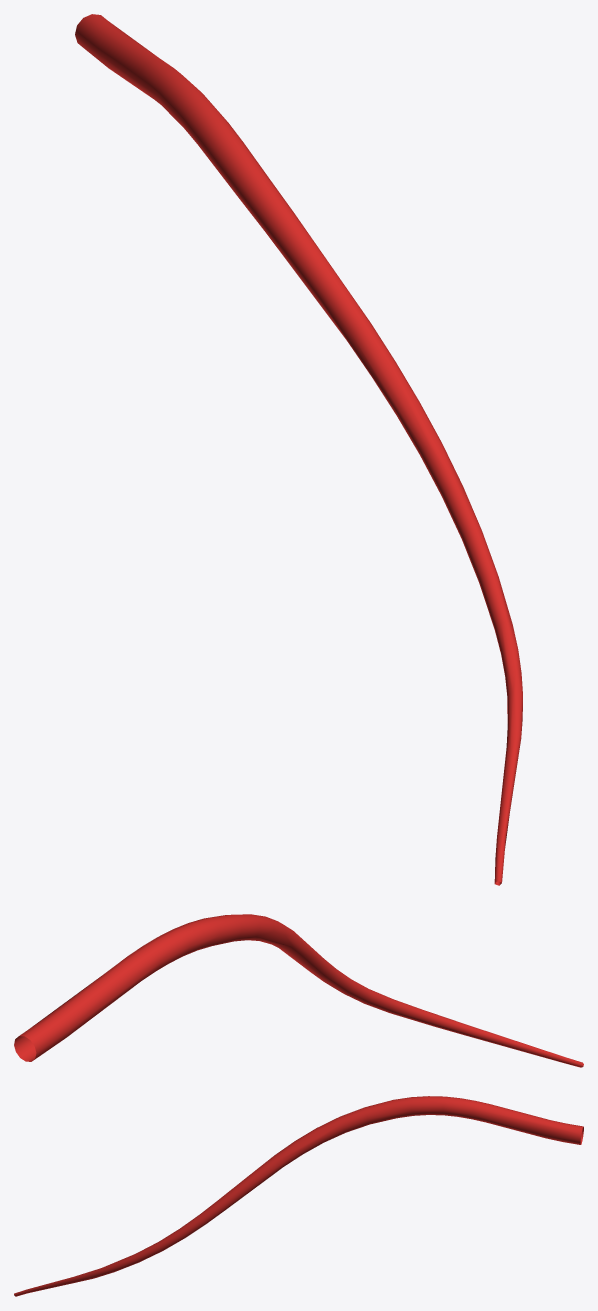
Rendered from circulatorio-inferior-ophthalmic-vein-r.glb.
The picture shows the model from 3 angles, top to bottom: view 1: azimuth 30°, elevation 25°; view 2: azimuth 150°, elevation 25°; view 3: azimuth 270°, elevation 25°; orthographic projection. The views are drawn at different scales.
Parts seen in each view (by area): view 1: Inferior ophthalmic vein.r; view 2: Inferior ophthalmic vein.r; view 3: Inferior ophthalmic vein.r.
Part boxes in pixels (x1,y1,x2,y2): Inferior ophthalmic vein.r: (75, 14, 522, 885); Inferior ophthalmic vein.r: (14, 914, 583, 1067); Inferior ophthalmic vein.r: (14, 1096, 583, 1296).
Size of the model in its own units: 0.0055 by 0.0133 by 0.0301.
